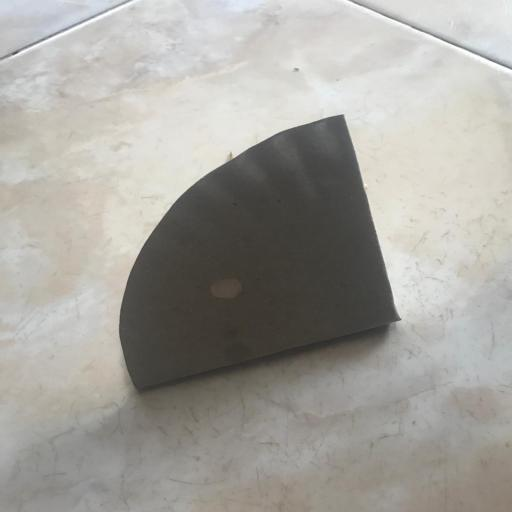waste: (94, 105, 404, 384)
